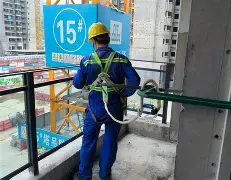safety belt: (80, 49, 132, 102)
